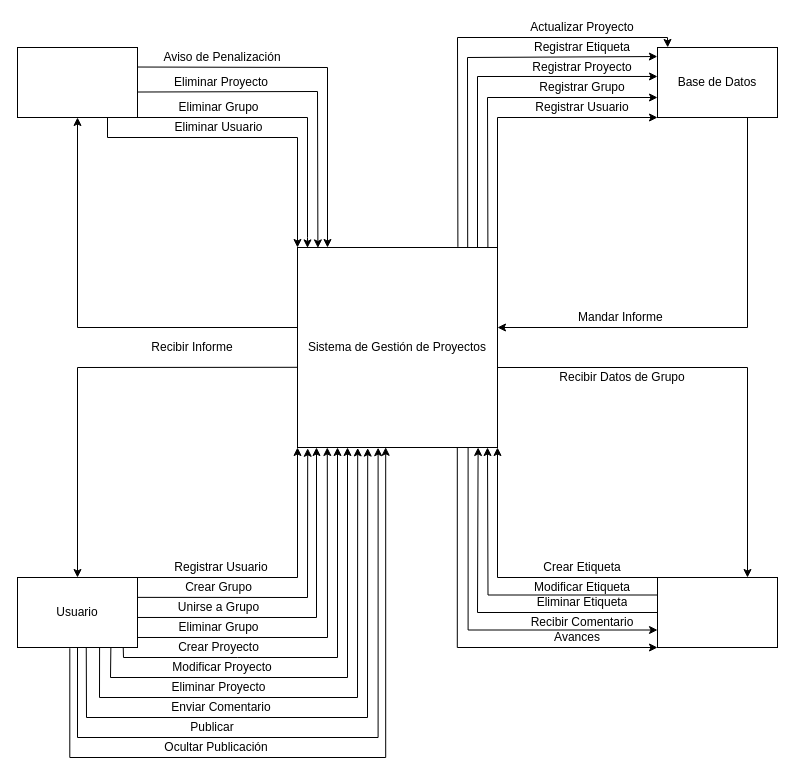
Some shapes in this 795 by 783 pixel diagram are drawn without their labels. The centre of each missing label's shape, as x and y in pixels:
"Administrador" belongs at (77,82).
"Proyecto" belongs at (717,612).
